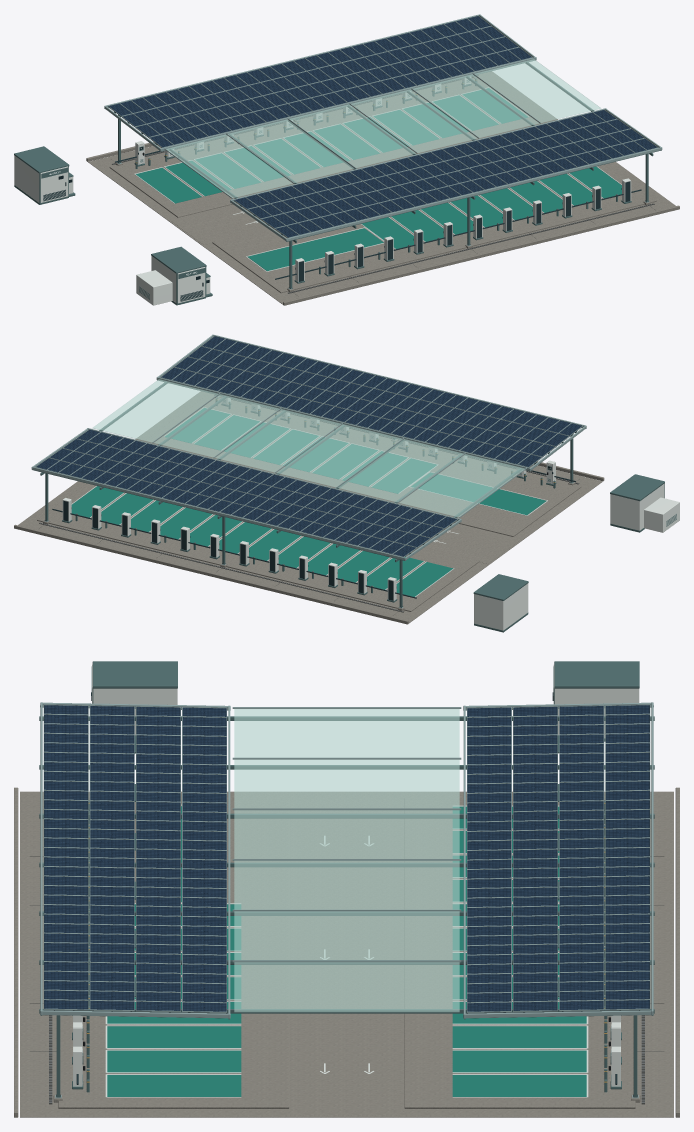
The model's file is charging-station.glb.
3 views of the same model, one above another, from view 1: azimuth 30°, elevation 25°; view 2: azimuth 150°, elevation 25°; view 3: azimuth 270°, elevation 25° (orthographic). The views are drawn at different scales.
Parts seen in each view (by area): view 1: station__Web 05 · Photovoltaic cells, station__Web Precast apron, station__Web 06 · Diffuse skylight, station__Web Charging bay coating, station__Web 02 · Anodized aluminium, station__Web Warm white enclosure, station__Web 01 · Powder coated green-grey steel, station__Web Drive aisle, station__Web Graphite polymer, station__Web Green grey powder coat, station__Web Expansion joint elastomer, panamaSc2_interior__Web Warm white enclosure (+5 smaller); view 2: station__Web 05 · Photovoltaic cells, station__Web Precast apron, station__Web 06 · Diffuse skylight, station__Web Charging bay coating, station__Web 02 · Anodized aluminium, station__Web Warm white enclosure, station__Web 01 · Powder coated green-grey steel, station__Web Drive aisle, station__Web Graphite polymer, panamaSc_shell__Web Warm white enclosure, panamaSc2_shell__Web Warm white enclosure, station__Web Green grey powder coat (+4 smaller); view 3: station__Web 05 · Photovoltaic cells, station__Web 06 · Diffuse skylight, station__Web Precast apron, station__Web 02 · Anodized aluminium, station__Web Drive aisle, station__Web Charging bay coating, station__Web 01 · Powder coated green-grey steel, station__Web Warm white enclosure, station__Web 04 · Graphite backing, panamaSc2_shell__Web Green grey powder coat, panamaSc_shell__Web Green grey powder coat, station__Web Green grey powder coat (+3 smaller).
Boxes of the visible parts, bbox=[...] form: station__Web 05 · Photovoltaic cells: bbox=[109, 16, 657, 237]; station__Web Precast apron: bbox=[86, 71, 679, 305]; station__Web 06 · Diffuse skylight: bbox=[166, 59, 600, 198]; station__Web Charging bay coating: bbox=[136, 88, 621, 271]; station__Web 02 · Anodized aluminium: bbox=[104, 14, 662, 289]; station__Web Warm white enclosure: bbox=[134, 76, 631, 281]; station__Web 01 · Powder coated green-grey steel: bbox=[118, 60, 661, 288]; station__Web Drive aisle: bbox=[170, 203, 271, 244]; station__Web Graphite polymer: bbox=[115, 150, 641, 281]; station__Web Green grey powder coat: bbox=[134, 78, 631, 283]; station__Web Expansion joint elastomer: bbox=[111, 75, 654, 296]; panamaSc2_interior__Web Warm white enclosure: bbox=[136, 270, 172, 305]; station__Web 05 · Photovoltaic cells: bbox=[36, 336, 581, 556]; station__Web Precast apron: bbox=[14, 391, 604, 624]; station__Web 06 · Diffuse skylight: bbox=[92, 379, 524, 517]; station__Web Charging bay coating: bbox=[71, 408, 546, 596]; station__Web 02 · Anodized aluminium: bbox=[31, 334, 586, 608]; station__Web Warm white enclosure: bbox=[62, 396, 555, 600]; station__Web 01 · Powder coated green-grey steel: bbox=[32, 380, 586, 607]; station__Web Drive aisle: bbox=[420, 522, 521, 563]; station__Web Graphite polymer: bbox=[52, 470, 575, 600]; panamaSc_shell__Web Warm white enclosure: bbox=[474, 583, 528, 630]; panamaSc2_shell__Web Warm white enclosure: bbox=[610, 483, 664, 530]; station__Web Green grey powder coat: bbox=[62, 398, 556, 602]; station__Web 05 · Photovoltaic cells: bbox=[44, 705, 649, 1011]; station__Web 06 · Diffuse skylight: bbox=[234, 709, 459, 1012]; station__Web Precast apron: bbox=[14, 787, 679, 1117]; station__Web 02 · Anodized aluminium: bbox=[40, 702, 653, 1098]; station__Web Drive aisle: bbox=[289, 793, 404, 1115]; station__Web Charging bay coating: bbox=[107, 806, 586, 1096]; station__Web 01 · Powder coated green-grey steel: bbox=[39, 716, 654, 1097]; station__Web Warm white enclosure: bbox=[73, 804, 620, 1097]; station__Web 04 · Graphite backing: bbox=[44, 705, 649, 1097]; panamaSc2_shell__Web Green grey powder coat: bbox=[92, 661, 177, 703]; panamaSc_shell__Web Green grey powder coat: bbox=[554, 661, 639, 704]; station__Web Green grey powder coat: bbox=[72, 800, 621, 1092].
Bounding box in the file's own units: 50.47 × 5.66 × 34.62.
Materials: 20 (4 with a texture image).
